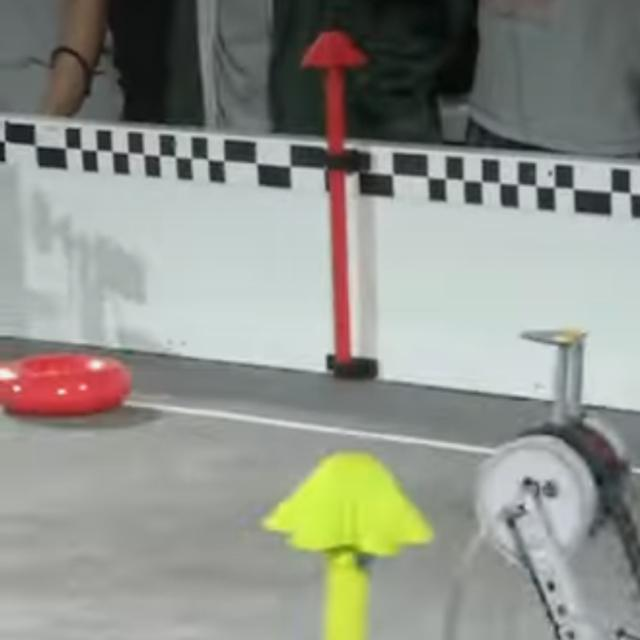zred-Stake-Head: (303, 31, 365, 69)
